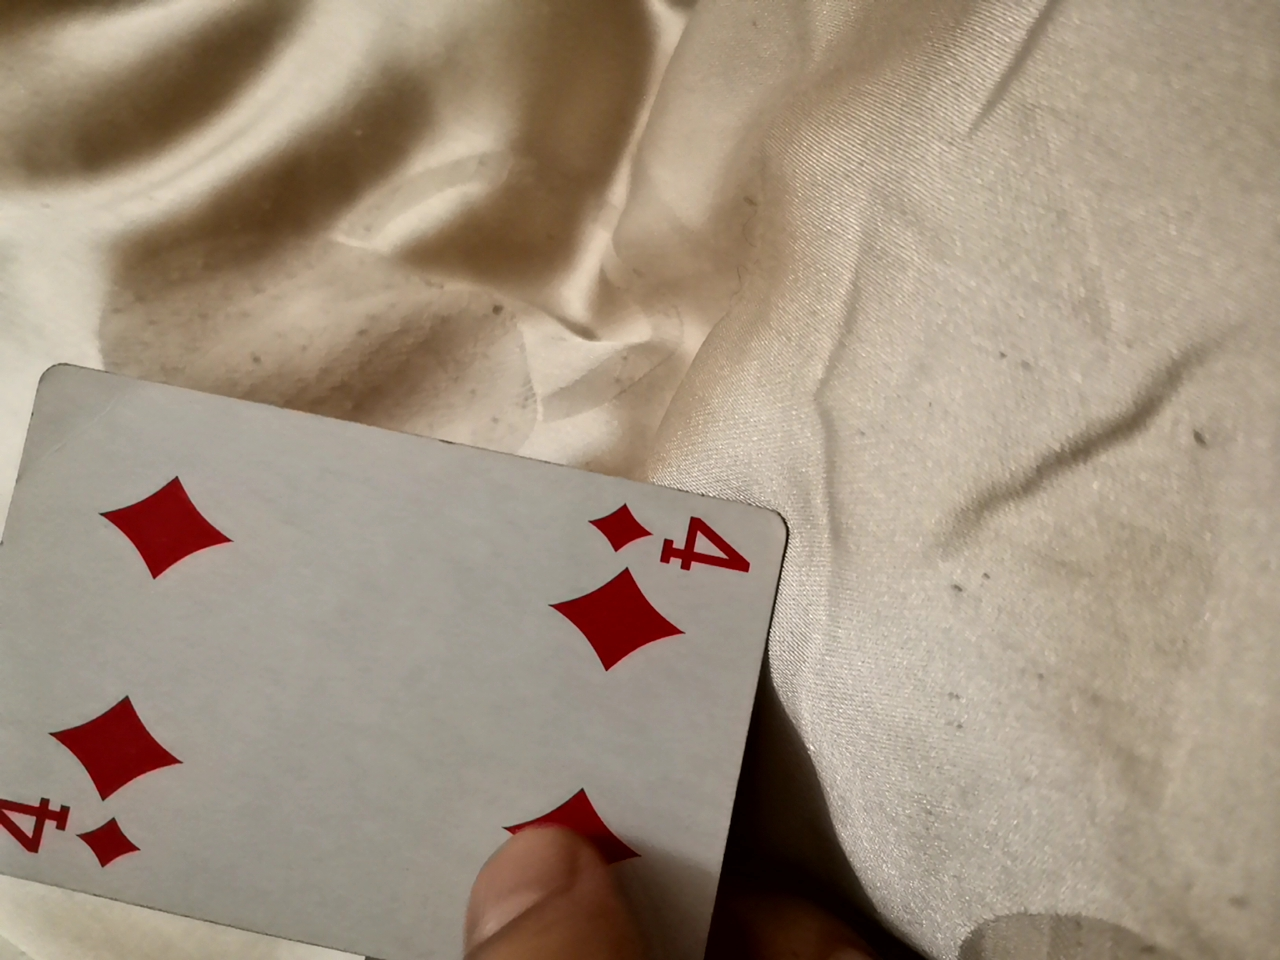fk 4: (10, 368, 793, 948)
